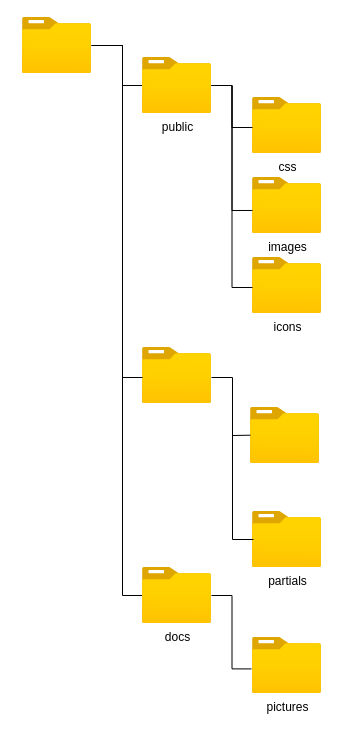
The diagram is 338 pixels wide and 731 high, and some of its shapes have lost their labels. The centre of each missing label's shape, as x and y in pixels:
"layouts" goes at (x=284, y=435).
"views" goes at (x=176, y=375).
"WebAuto (projektin juuri)" goes at (x=56, y=45).
